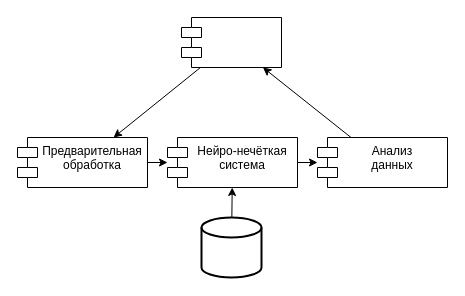
Some shapes in this 465 by 296 pixel diagram are drawn without their labels. The box of each missing label's shape, as (x1, y1, x2, y2) in pixels:
База данных: (200, 216, 262, 278)
Графический интерфейс: (180, 16, 282, 68)
